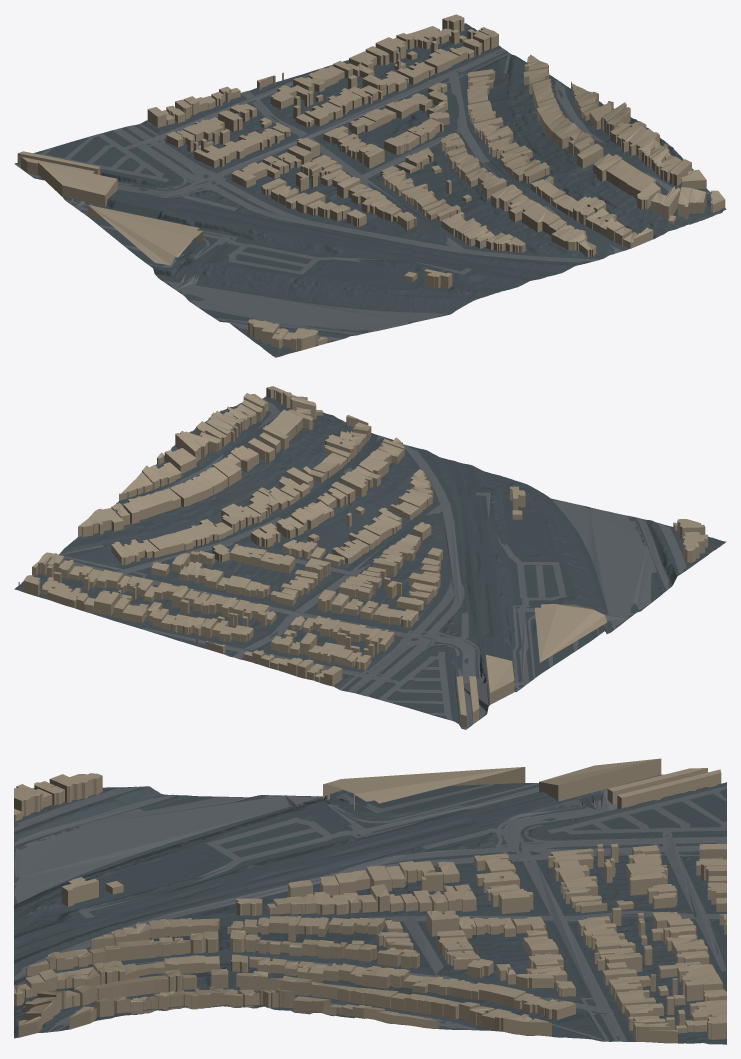
File: epsg26910-1424-10868.lod0.glb
The picture shows the model from 3 angles, top to bottom: view 1: azimuth 30°, elevation 25°; view 2: azimuth 150°, elevation 25°; view 3: azimuth 270°, elevation 25°; orthographic projection. The views are drawn at different scales.
Visible parts, largest first — view 1: epsg26910-1424-10868-lod0; view 2: epsg26910-1424-10868-lod0; view 3: epsg26910-1424-10868-lod0.
Boxes of the visible parts, <box> form: epsg26910-1424-10868-lod0: <box>14,14,726,357</box>; epsg26910-1424-10868-lod0: <box>14,386,726,729</box>; epsg26910-1424-10868-lod0: <box>14,758,726,1044</box>.
Size of the model in its own units: 384 by 63.45 by 384.
